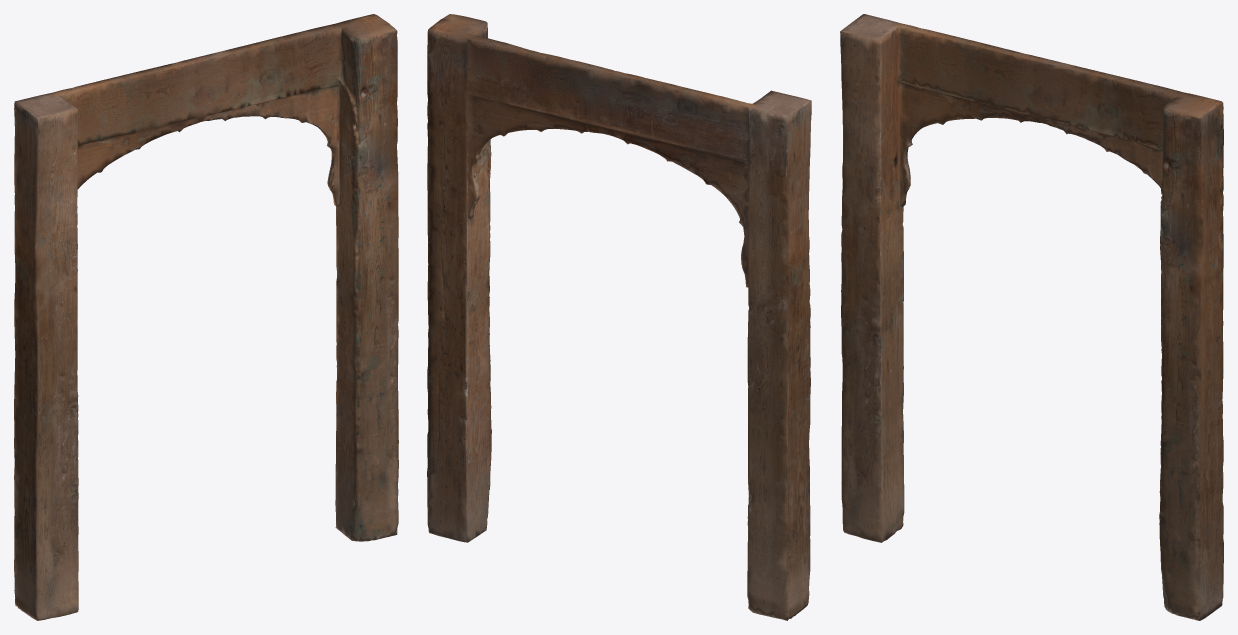
File: puerta.fbx
3 views of the same model, side by side, from view 1: azimuth 30°, elevation 25°; view 2: azimuth 150°, elevation 25°; view 3: azimuth 330°, elevation 25° (orthographic).
Visible parts, largest first — view 1: Aset_building_wall_M_xedqcd2dw_00_LOD0; view 2: Aset_building_wall_M_xedqcd2dw_00_LOD0; view 3: Aset_building_wall_M_xedqcd2dw_00_LOD0.
Part boxes in pixels (left/top/right/bottom): Aset_building_wall_M_xedqcd2dw_00_LOD0: left=14, top=14, right=398, bottom=620; Aset_building_wall_M_xedqcd2dw_00_LOD0: left=427, top=14, right=811, bottom=620; Aset_building_wall_M_xedqcd2dw_00_LOD0: left=840, top=14, right=1223, bottom=620.
Bounding box in the file's own units: 180 × 240 × 20.83.
